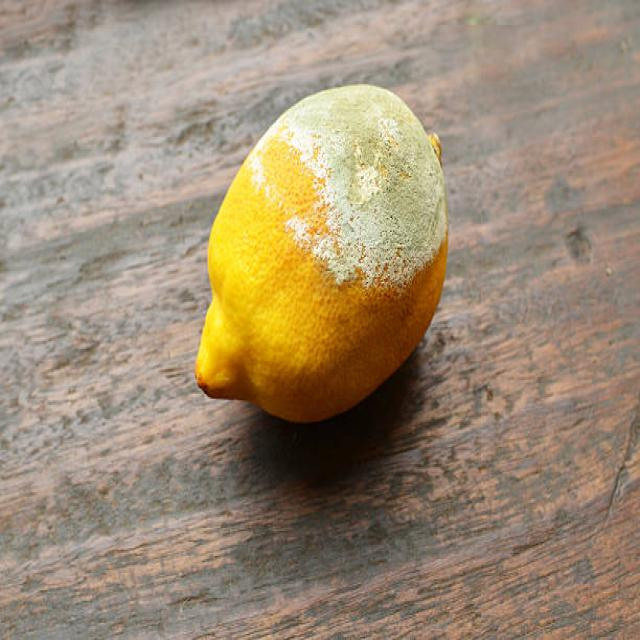Rotten: (197, 80, 448, 424)
